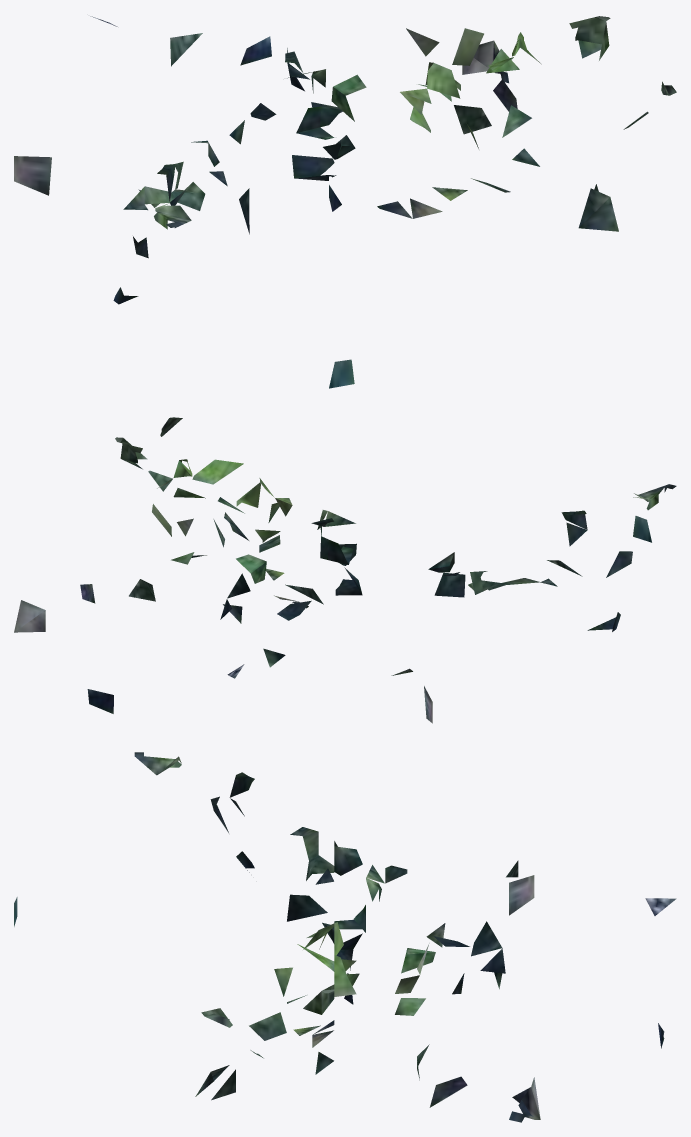
3 views of the same model, one above another, from view 1: azimuth 30°, elevation 25°; view 2: azimuth 150°, elevation 25°; view 3: azimuth 270°, elevation 25° (orthographic). The views are drawn at different scales.
Parts seen in each view (by area): view 1: 30436272704370406723_1; view 2: 30436272704370406723_1; view 3: 30436272704370406723_1.
Part boxes in pixels (x1,y1,x2,y2): 30436272704370406723_1: (14, 16, 676, 388); 30436272704370406723_1: (14, 417, 676, 723); 30436272704370406723_1: (14, 752, 676, 1122).
Size of the model in its own units: 27.77 by 7.24 by 32.24.
Materials: 1 (1 with a texture image).
